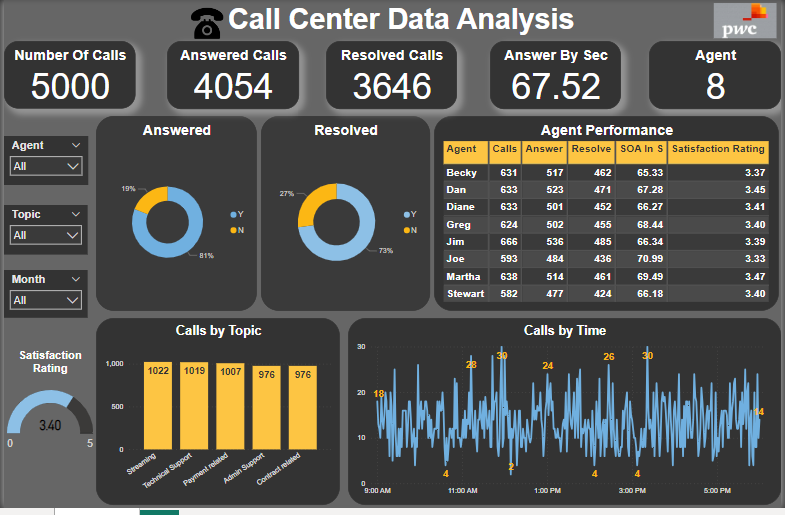

The dashboard page shown, as its layout file describes it:
{"tool":"powerbi","page":{"name":"Analysis","canvas":[1300,850],"ordinal":0},"visuals":[{"type":"donutChart","title":"Resolved","fields":{"Y":["CountNonNull(Call Center Data.Call Id)"],"Category":["Call Center Data.Resolved"]},"box":[430,194.1,282.8,326.3],"z":0},{"type":"card","title":"Answer By Sec","fields":{"Values":["Avg(Call Center Data.Speed of answer in seconds)"]},"box":[813.2,68.6,219.2,113.8],"z":1000},{"type":"card","title":"Number Of Calls","fields":{"Values":["Count(Call Center Data.Call Id)"]},"box":[0,69.3,220,113],"z":2000},{"type":"gauge","title":"Satisfaction Rating","fields":{"Y":["Avg(Call Center Data.Satisfaction rating)"]},"box":[0,584.3,154.3,198.4],"z":3000},{"type":"columnChart","title":"Calls by Topic","fields":{"Y":["CountNonNull(Call Center Data.Call Id)"],"Category":["Call Center Data.Topic"]},"box":[153.9,532.1,408.3,312.9],"z":4000},{"type":"lineChart","title":"Calls by Time","fields":{"Category":["Call Center Data.Time"],"Y":["CountNonNull(Call Center Data.Call Id)"]},"box":[575.6,532.1,724.5,312.9],"z":5000},{"type":"card","title":"Agent","fields":{"Values":["Count(Call Center Data.Agent)"]},"box":[1079.2,68.6,220.9,113.8],"z":6000},{"type":"slicer","fields":{"Values":["Call Center Data.Agent"]},"box":[0,228.2,140.9,82.2],"z":7000},{"type":"slicer","fields":{"Values":["Call Center Data.Date.Variation.Date Hierarchy.Month"]},"box":[0,452,140.2,80.3],"z":8000},{"type":"textbox","box":[369.4,0,663.3,85.7],"z":9000},{"type":"slicer","fields":{"Values":["Call Center Data.Topic"]},"box":[0,343.3,140.2,83.5],"z":10000},{"type":"donutChart","title":" Answered ","fields":{"Category":["Call Center Data.Answered (Y/N)"],"Y":["CountNonNull(Call Center Data.Call Id)"]},"box":[153.9,194.1,269.4,326.3],"z":11000},{"type":"image","box":[308.7,0,63.7,78.8],"z":12000},{"type":"tableEx","title":"Agent Performance","fields":{"Values":["Call Center Data.Agent","Call Center Data.Call Id","Call Center Data.##Answered","Call Center Data.##Resolved","Avg(Call Center Data.Speed of answer in seconds)","Avg(Call Center Data.Satisfaction rating)"]},"box":[719.5,194.1,577.3,326.3],"z":13000},{"type":"card","title":"Resolved Calls","fields":{"Values":["Call Center Data.##Resolved"]},"box":[538.8,68.6,219.2,113.8],"z":14000},{"type":"card","title":"Answered Calls","fields":{"Values":["Call Center Data.##Answered"]},"box":[272.7,68.6,220.9,113.8],"z":15000},{"type":"image","box":[1179.6,0,120.5,68.6],"z":16000}]}

Visuals, with their boxes in screenshot pixels (x1, y1, x2, y2), scaled from the page's 1300x850 canvas onto the 785x515 screenshot:
"Resolved" donutChart: region(260, 118, 430, 315)
"Answer By Sec" card: region(491, 42, 623, 111)
"Number Of Calls" card: region(0, 42, 133, 110)
"Satisfaction Rating" gauge: region(0, 354, 93, 474)
"Calls by Topic" columnChart: region(93, 322, 339, 512)
"Calls by Time" lineChart: region(348, 322, 784, 512)
"Agent" card: region(652, 42, 784, 111)
slicer - Call Center Data.Agent: region(0, 138, 85, 188)
slicer - Call Center Data.Date.Variation.Date Hierarchy.Month: region(0, 274, 85, 323)
textbox: region(223, 0, 624, 52)
slicer - Call Center Data.Topic: region(0, 208, 85, 259)
" Answered " donutChart: region(93, 118, 256, 315)
image: region(186, 0, 225, 48)
"Agent Performance" tableEx: region(434, 118, 783, 315)
"Resolved Calls" card: region(325, 42, 458, 111)
"Answered Calls" card: region(165, 42, 298, 111)
image: region(712, 0, 784, 42)
